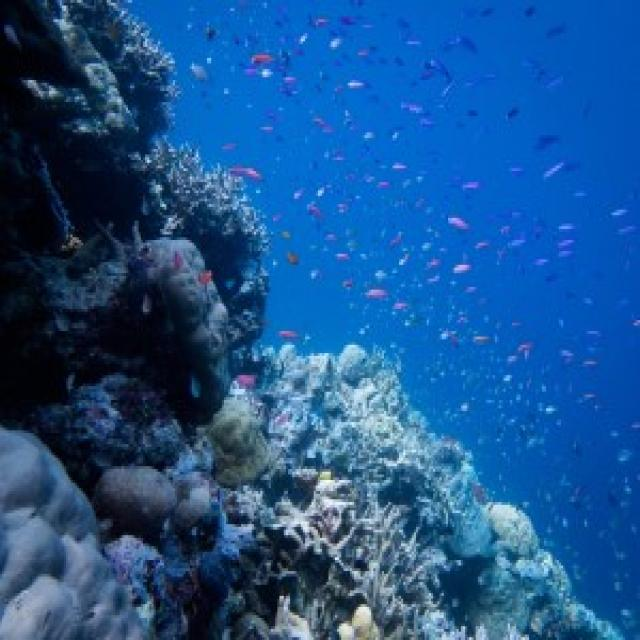Healthy: (208, 346, 618, 638), (1, 1, 268, 390), (1, 429, 146, 638), (95, 467, 231, 638), (31, 373, 184, 487), (144, 241, 229, 418)
